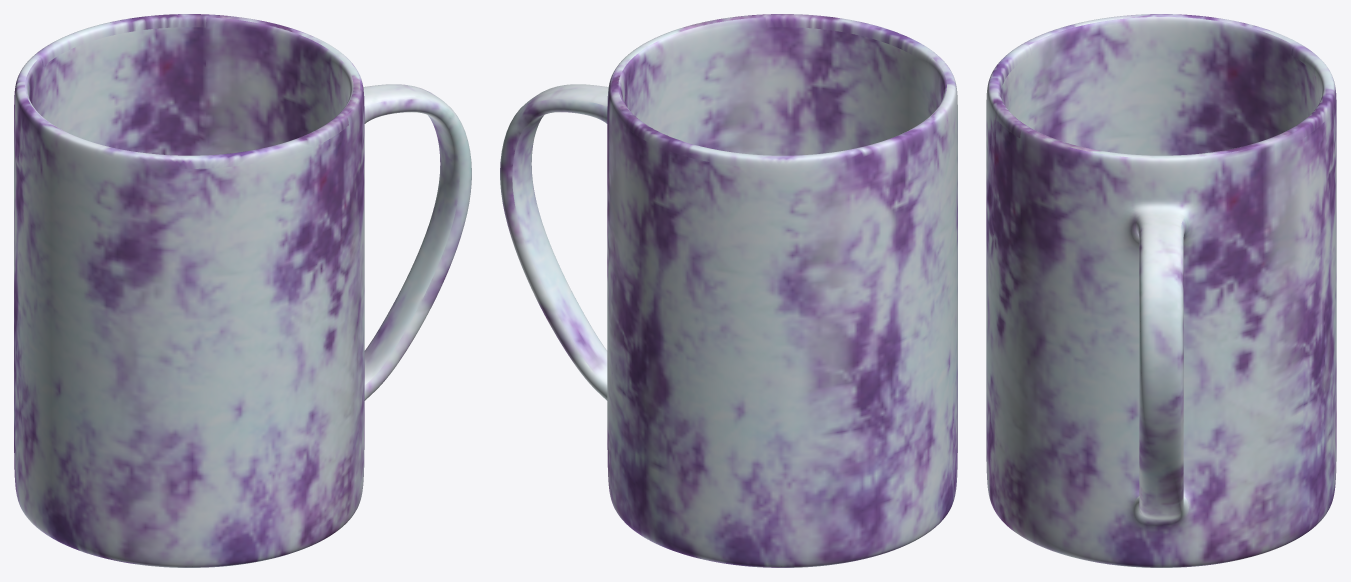
The picture shows the model from 3 angles, left to right: view 1: azimuth 30°, elevation 25°; view 2: azimuth 150°, elevation 25°; view 3: azimuth 270°, elevation 25°; orthographic projection.
Visible parts, largest first — view 1: cup1; view 2: cup1; view 3: cup1.
Boxes of the visible parts, x1,y1,x2,y2 form: cup1: (14, 14, 471, 567); cup1: (500, 14, 957, 567); cup1: (986, 14, 1336, 567).
Size of the model in its own units: 16.49 by 15.17 by 11.71.
Materials: 1 (1 with a texture image).
